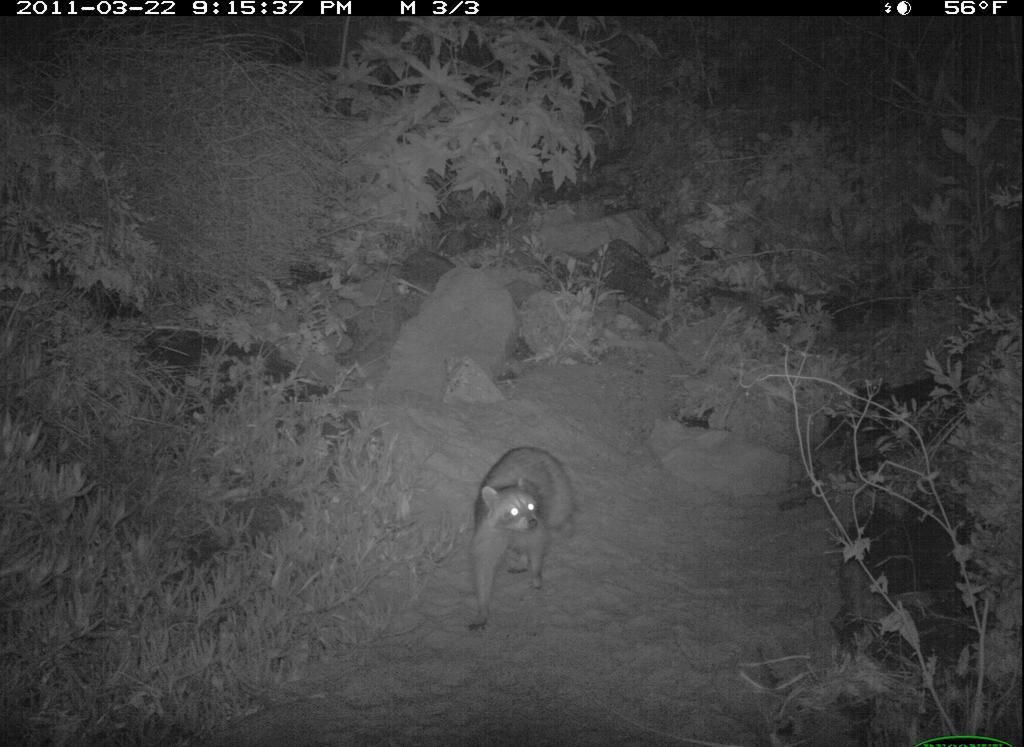raccoon: (441, 434, 605, 648)
